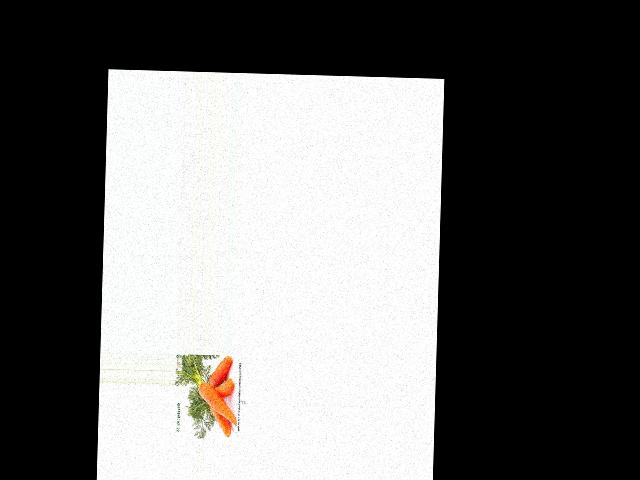carrot: (206, 356, 233, 388)
